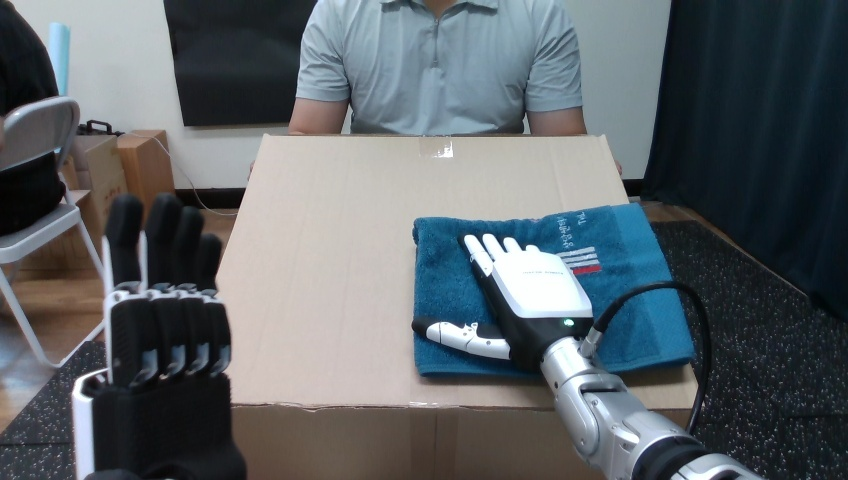left robot hand: (412, 233, 760, 479), (72, 193, 245, 478), (596, 288, 704, 430)
